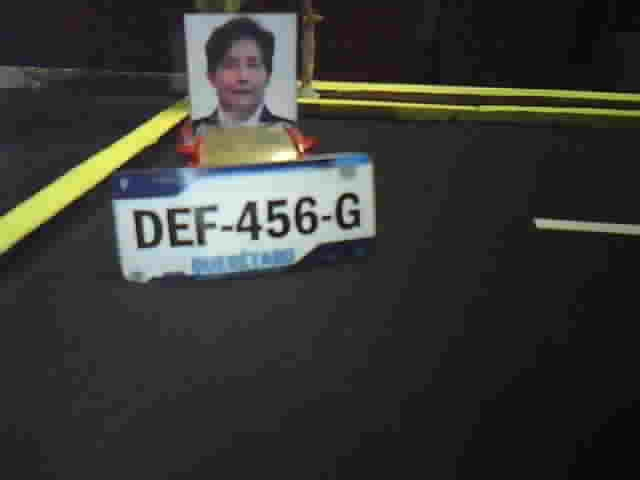PLACA: (110, 151, 378, 287)
ROSTRO: (192, 16, 295, 130)
